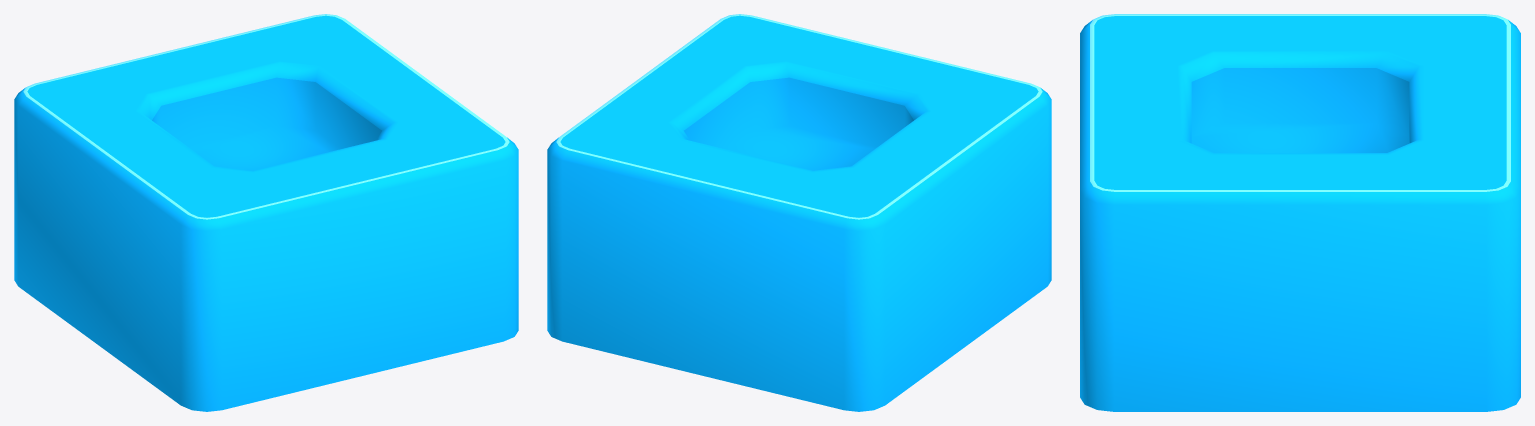
The model's file is cell_blue.glb.
3 views of the same model, side by side, from view 1: azimuth 30°, elevation 25°; view 2: azimuth 150°, elevation 25°; view 3: azimuth 270°, elevation 25° (orthographic). The views are drawn at different scales.
Parts seen in each view (by area): view 1: cell_blue; view 2: cell_blue; view 3: cell_blue.
Boxes of the visible parts, <box> form: cell_blue: <box>14,14,518,411</box>; cell_blue: <box>547,14,1051,411</box>; cell_blue: <box>1080,14,1520,411</box>.
Bounding box in the file's own units: 1 × 0.54 × 1.
Materials: 1 (1 with a texture image).
